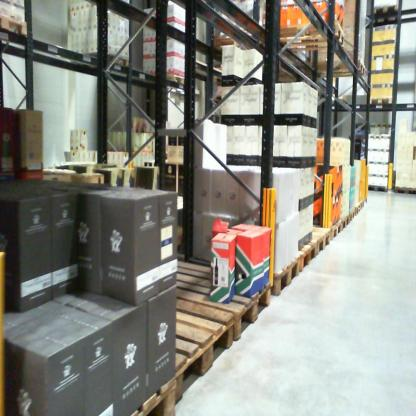pallet: (155, 248, 271, 348), (173, 275, 238, 405), (130, 355, 194, 415), (263, 17, 347, 54), (301, 52, 368, 78), (268, 255, 303, 297), (303, 219, 333, 262), (0, 8, 31, 40), (299, 235, 321, 276), (147, 69, 192, 88), (94, 47, 131, 70), (369, 4, 399, 27), (329, 219, 342, 247), (366, 178, 388, 193), (367, 96, 393, 107), (395, 185, 416, 196), (139, 157, 155, 169), (347, 207, 357, 222), (341, 213, 349, 228), (357, 199, 367, 211), (353, 203, 361, 217)
